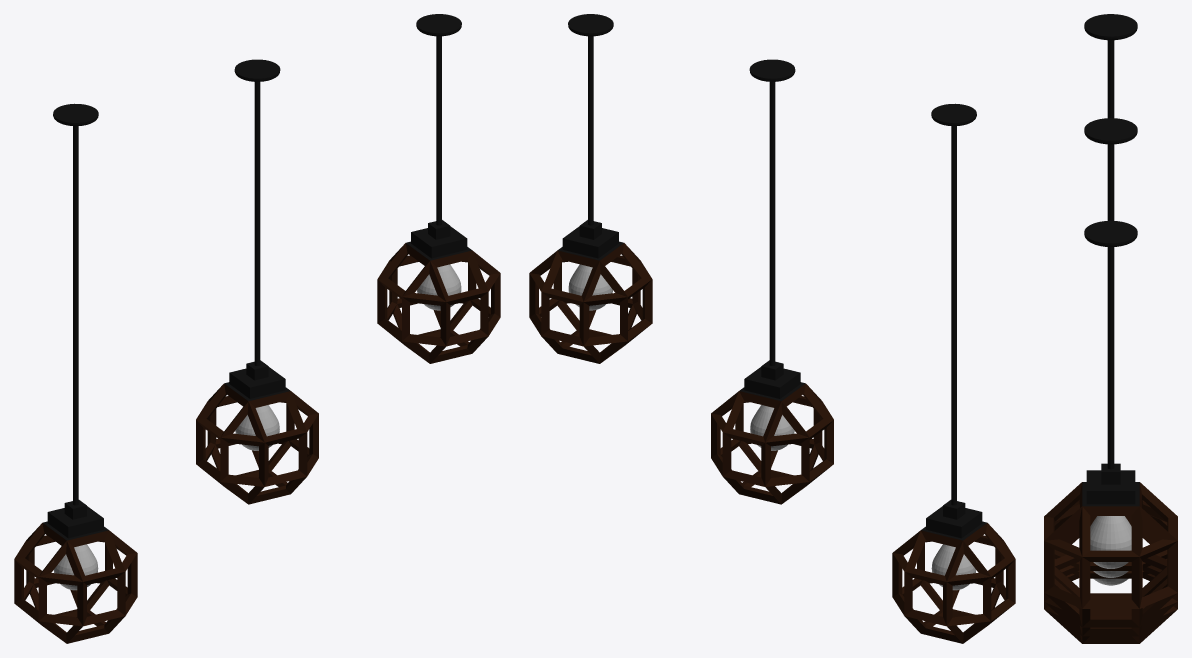
File: wireframeLamps.fbx
3 views of the same model, side by side, from view 1: azimuth 30°, elevation 25°; view 2: azimuth 150°, elevation 25°; view 3: azimuth 270°, elevation 25° (orthographic). The views are drawn at different scales.
Visible parts, largest first — view 1: lampLarge, lampMedium.001, lampSmall; view 2: lampLarge, lampMedium.001, lampSmall; view 3: lampSmall, lampMedium.001, lampLarge.
Part boxes in pixels (bbox=[...]): lampLarge: bbox=[14, 103, 137, 643]; lampMedium.001: bbox=[196, 59, 318, 504]; lampSmall: bbox=[377, 14, 500, 363]; lampLarge: bbox=[892, 103, 1015, 643]; lampMedium.001: bbox=[711, 59, 833, 504]; lampSmall: bbox=[529, 14, 652, 363]; lampSmall: bbox=[1044, 220, 1177, 627]; lampMedium.001: bbox=[1044, 118, 1177, 636]; lampLarge: bbox=[1044, 14, 1177, 643].
Bounding box in the file's own units: 130 × 140 × 27.88.
